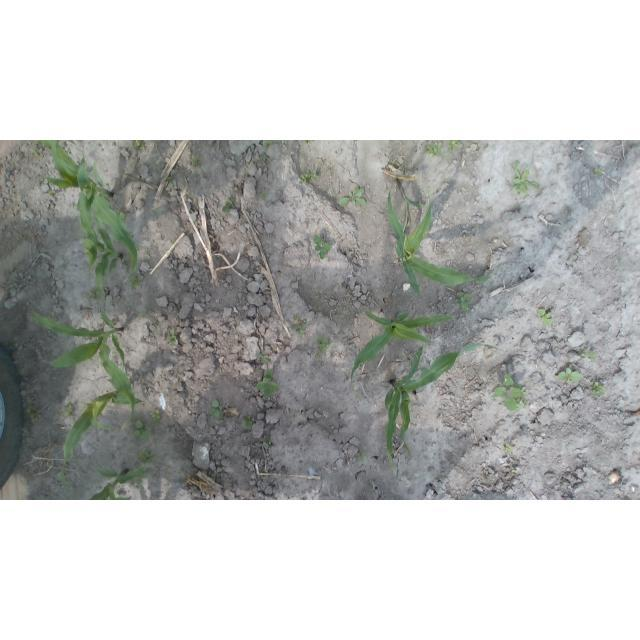Maize: (28, 285, 134, 434), (385, 342, 499, 467), (41, 140, 139, 282), (387, 186, 492, 294), (60, 378, 142, 494), (351, 309, 457, 380), (77, 157, 124, 292), (89, 467, 144, 499), (394, 179, 424, 233)
Weeds: (493, 374, 523, 411), (512, 167, 539, 195), (257, 369, 278, 399), (338, 187, 367, 208), (558, 367, 583, 385), (314, 233, 331, 259), (132, 420, 148, 440), (292, 316, 307, 335), (457, 292, 472, 311), (539, 310, 554, 327), (212, 399, 225, 418), (425, 142, 443, 155), (316, 337, 331, 352), (301, 171, 317, 185), (256, 354, 272, 366), (242, 415, 255, 429), (26, 405, 38, 419), (139, 452, 154, 463), (583, 350, 597, 361), (593, 382, 605, 394), (448, 141, 461, 152), (150, 410, 161, 422), (191, 156, 203, 166), (504, 441, 513, 454), (168, 333, 178, 343), (166, 178, 174, 190), (263, 189, 272, 199), (357, 452, 367, 461), (595, 166, 604, 176), (223, 203, 231, 214), (65, 404, 73, 415), (90, 289, 98, 300), (511, 161, 520, 169), (263, 156, 270, 165), (134, 141, 143, 148), (32, 141, 42, 146), (262, 141, 272, 146), (119, 211, 126, 217), (49, 190, 57, 195), (300, 141, 313, 144), (131, 277, 137, 283), (33, 150, 38, 156)
